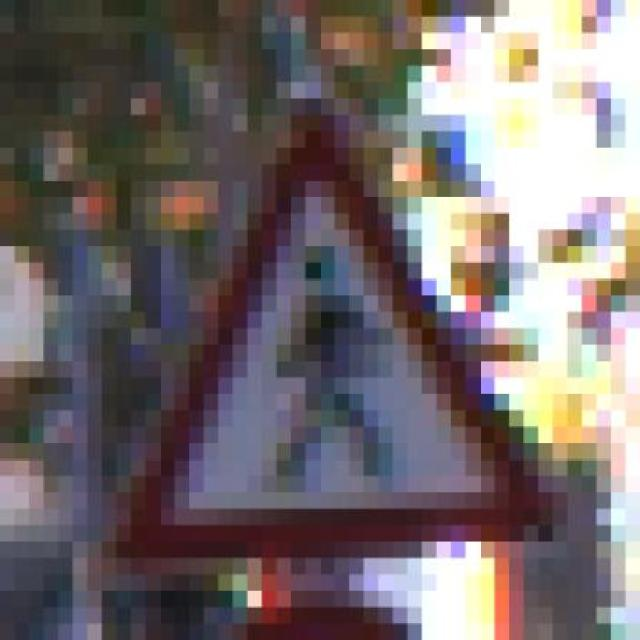Pedestrian Crossing: (87, 115, 582, 558)
